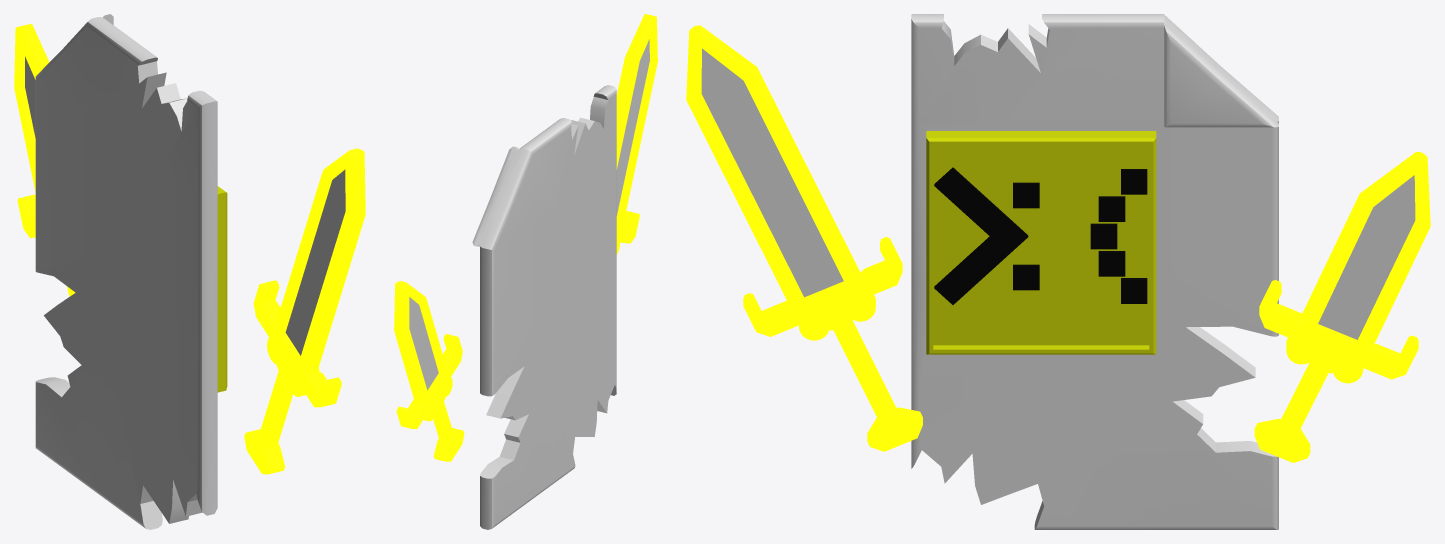
File: Lvl 3 Junk.fbx
The picture shows the model from 3 angles, left to right: view 1: azimuth 30°, elevation 25°; view 2: azimuth 150°, elevation 25°; view 3: azimuth 270°, elevation 25°; orthographic projection. The views are drawn at different scales.
Parts seen in each view (by area): view 1: Junk_Troop_; view 2: Junk_Troop_; view 3: Junk_Troop_.
Part boxes in pixels (x1,y1,x2,y2): Junk_Troop_: (14, 14, 365, 529); Junk_Troop_: (394, 14, 657, 529); Junk_Troop_: (686, 14, 1430, 529).
Size of the model in its own units: 0.1901 by 1.36 by 1.75.
